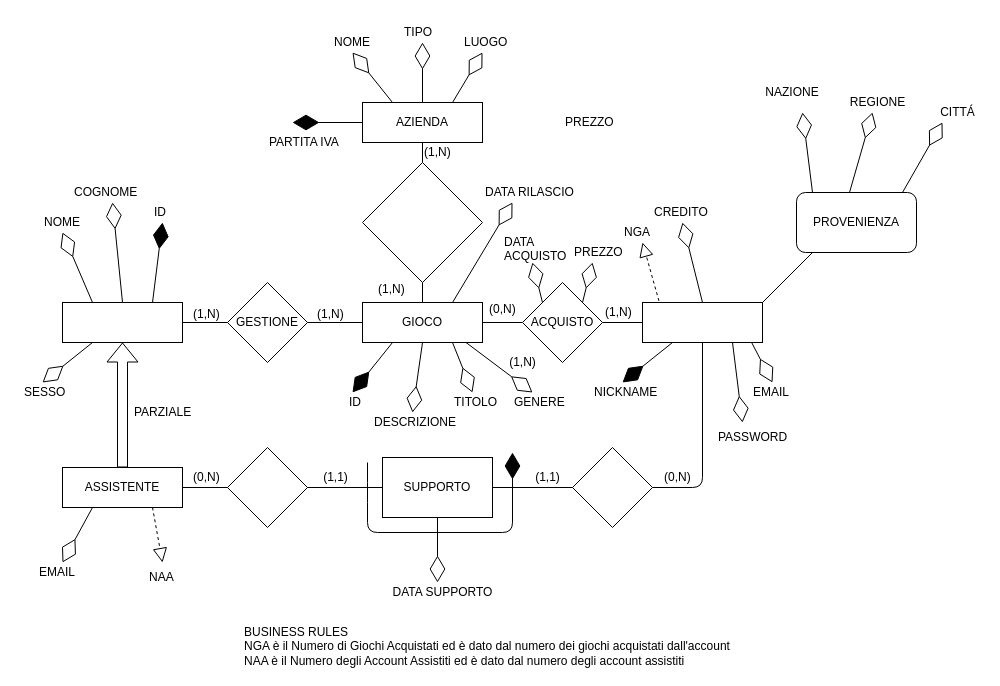
This 1000x686 diagram has some shape labels left out. Here are the shapes that lost their labels. From the top down, the centre of each, then its label:
At point 422,222: "PRODUZIONE".
At point 122,322: "DIPENDENTE".
At point 702,322: "ACCOUNT".
